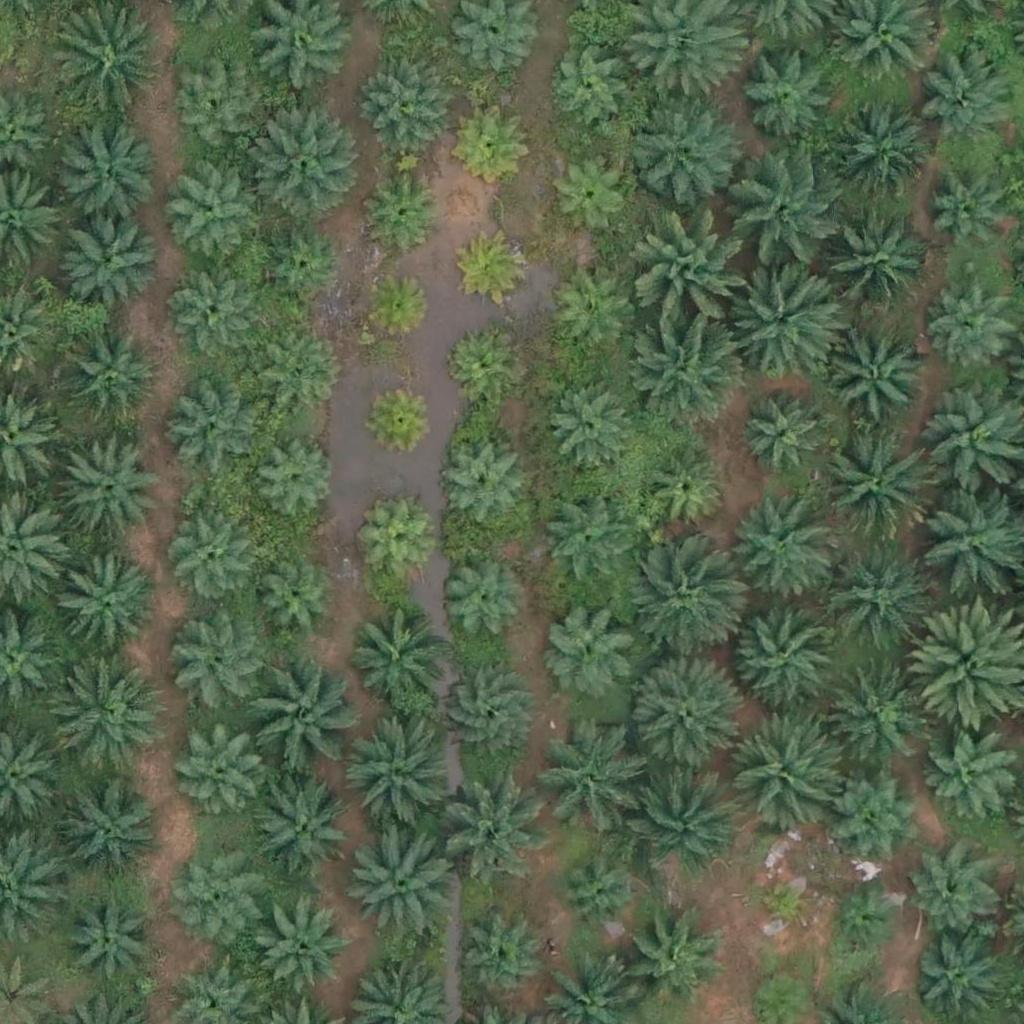Kelapa_Sawit: (339, 824, 452, 938), (816, 210, 929, 324), (817, 429, 930, 542), (821, 541, 934, 654), (728, 596, 841, 709), (625, 657, 738, 770), (48, 554, 161, 667), (49, 663, 162, 776), (733, 156, 846, 269), (632, 314, 745, 427), (247, 105, 360, 218), (46, 9, 159, 122), (625, 759, 737, 873), (342, 720, 454, 834), (638, 218, 750, 332), (721, 497, 833, 610), (726, 714, 838, 827), (623, 548, 735, 661), (436, 765, 548, 878), (240, 659, 352, 772), (728, 261, 840, 374), (625, 92, 737, 205), (825, 662, 925, 763), (827, 763, 927, 864), (619, 911, 719, 1012), (533, 732, 633, 833), (346, 608, 446, 709), (249, 776, 349, 877), (170, 613, 270, 714), (59, 433, 159, 534), (828, 326, 928, 427), (733, 38, 833, 139), (55, 125, 155, 226), (60, 208, 160, 309), (59, 325, 159, 426), (166, 377, 266, 478), (540, 598, 640, 698), (438, 666, 538, 766), (922, 48, 1022, 148), (829, 104, 929, 204), (60, 781, 159, 882), (907, 850, 995, 938), (640, 447, 728, 535), (554, 849, 642, 937), (435, 440, 523, 528), (261, 909, 349, 997), (161, 512, 249, 600), (257, 220, 345, 308), (257, 338, 345, 426), (740, 392, 828, 480), (543, 148, 631, 236), (548, 271, 636, 359), (167, 176, 255, 264), (168, 268, 256, 356), (540, 497, 627, 586), (925, 730, 1012, 818), (437, 556, 524, 644), (459, 918, 546, 1006), (253, 436, 340, 524), (250, 560, 337, 648), (173, 843, 260, 931), (176, 728, 263, 816), (67, 894, 154, 982), (926, 181, 1013, 269), (931, 286, 1018, 374), (546, 46, 633, 134), (547, 380, 634, 468), (361, 56, 448, 144), (173, 65, 260, 153), (442, 326, 517, 402), (826, 883, 901, 959), (359, 506, 434, 582), (364, 379, 439, 455), (457, 230, 532, 306), (367, 172, 442, 247), (359, 269, 434, 344), (457, 108, 532, 183), (752, 871, 814, 934)
